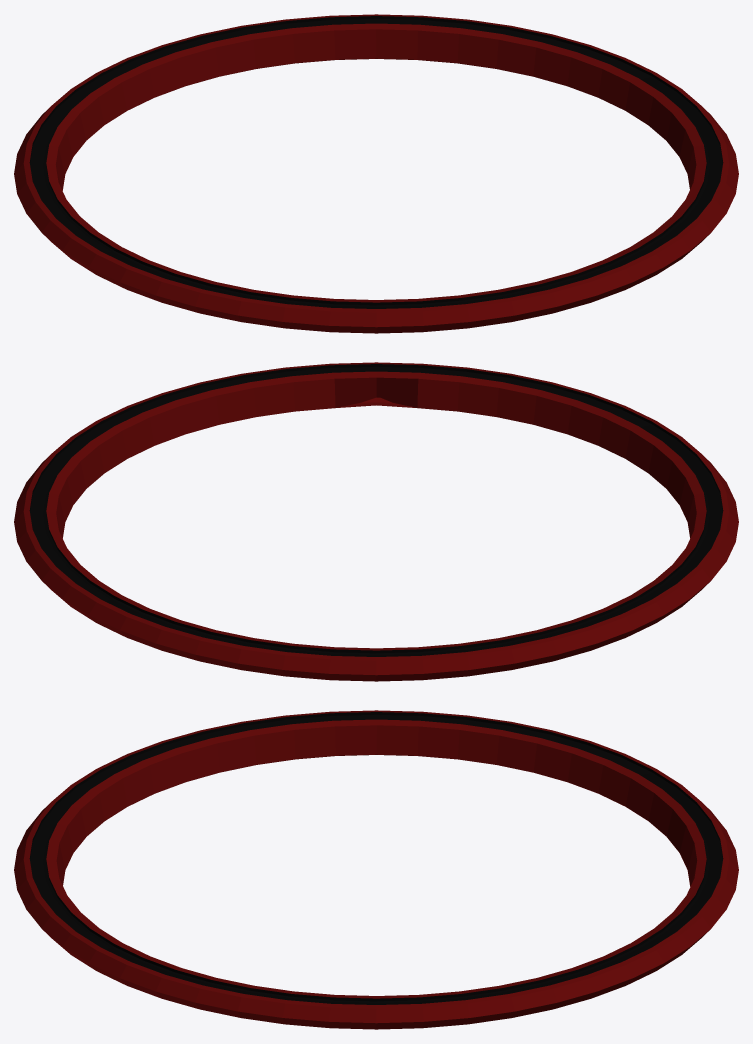
File: spinnerTrapHinge.fbx
3 renders of one model, top to bottom at view 1: azimuth 30°, elevation 25°; view 2: azimuth 150°, elevation 25°; view 3: azimuth 270°, elevation 25°, orthographic.
Parts seen in each view (by area): view 1: Torus, Torus.001; view 2: Torus, Torus.001; view 3: Torus, Torus.001.
Part boxes in pixels (<box>): Torus: <box>14,14,738,333</box>; Torus.001: <box>29,16,723,308</box>; Torus: <box>14,362,738,681</box>; Torus.001: <box>29,364,723,656</box>; Torus: <box>14,710,738,1029</box>; Torus.001: <box>29,712,723,1004</box>.
Size of the model in its own units: 1574 by 72.83 by 1574.
